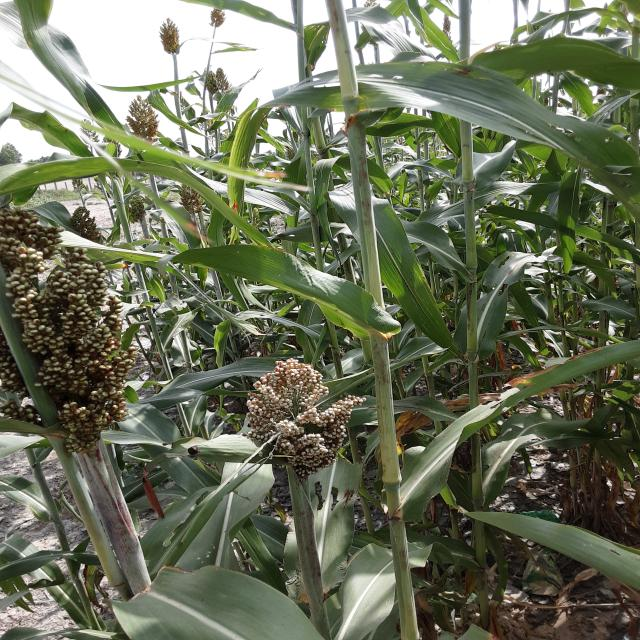UnripeSorghum: (0, 208, 136, 443), (240, 343, 361, 492)
